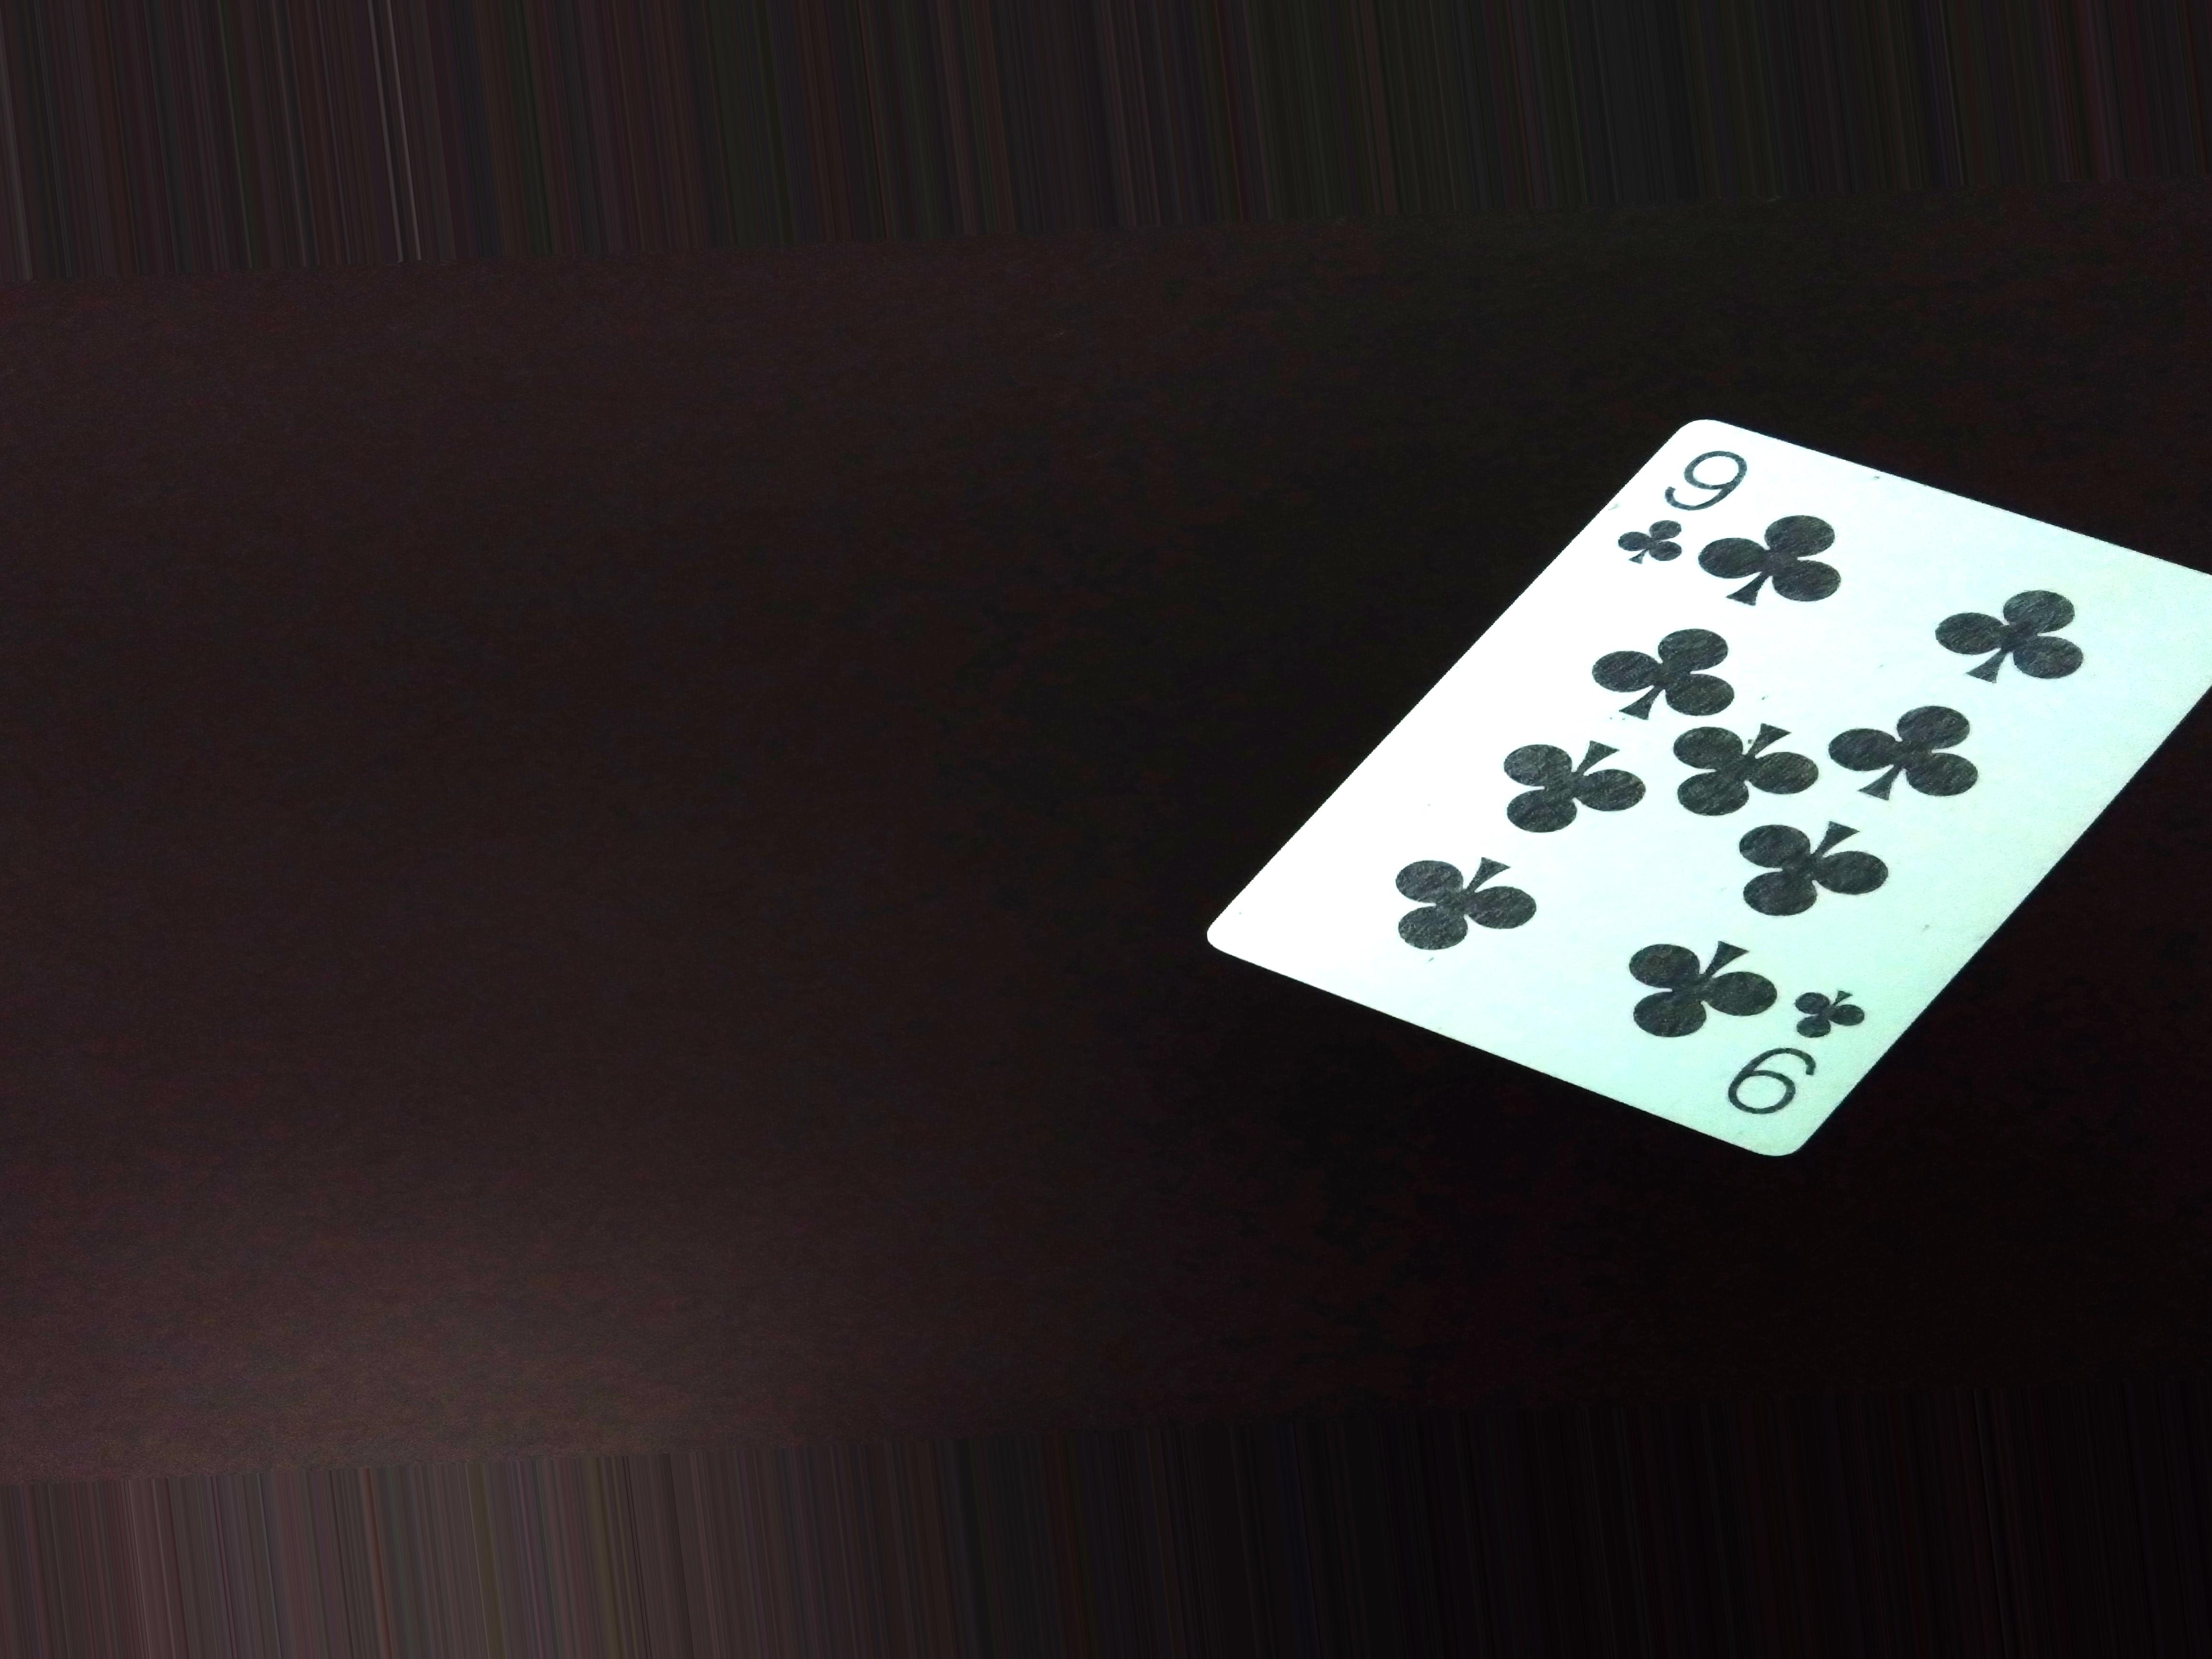9C: (1615, 411, 1770, 580)
